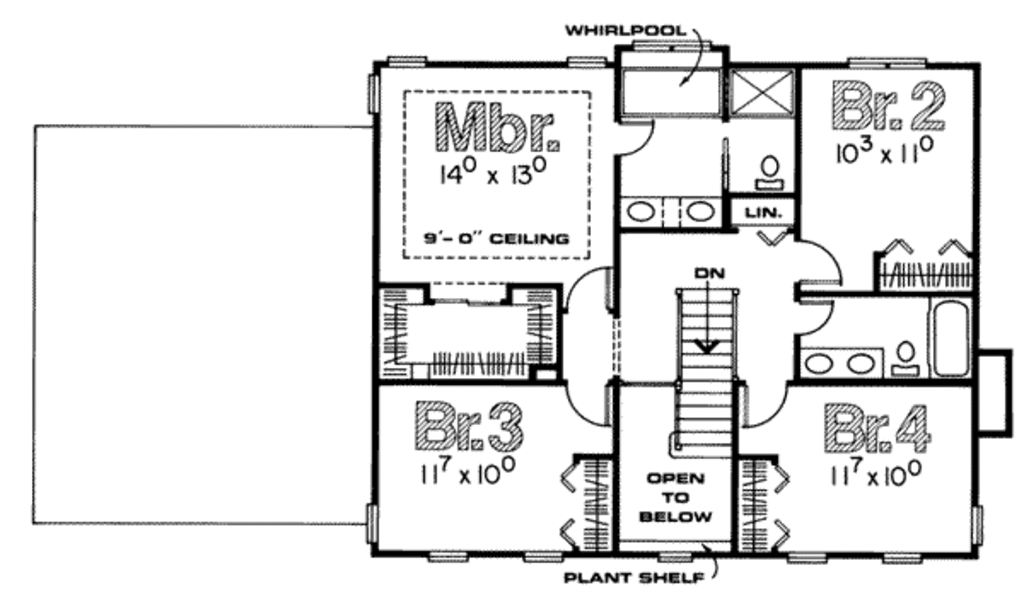door: (795, 238, 846, 294), (559, 378, 616, 428), (561, 264, 615, 315), (743, 378, 789, 431), (791, 296, 836, 341), (613, 118, 656, 162)
large_sink: (886, 339, 924, 384), (748, 153, 787, 195)
small_sink: (617, 193, 725, 237), (800, 345, 886, 383)
stairs: (667, 264, 739, 461)
tub: (623, 61, 721, 121), (922, 296, 972, 380)
window: (842, 51, 931, 77), (631, 31, 714, 55), (362, 69, 384, 124), (783, 545, 834, 568), (561, 53, 616, 74), (379, 53, 431, 73), (965, 503, 988, 548), (518, 545, 565, 566), (880, 549, 930, 568), (364, 497, 382, 545), (425, 548, 475, 565), (651, 549, 693, 564)
